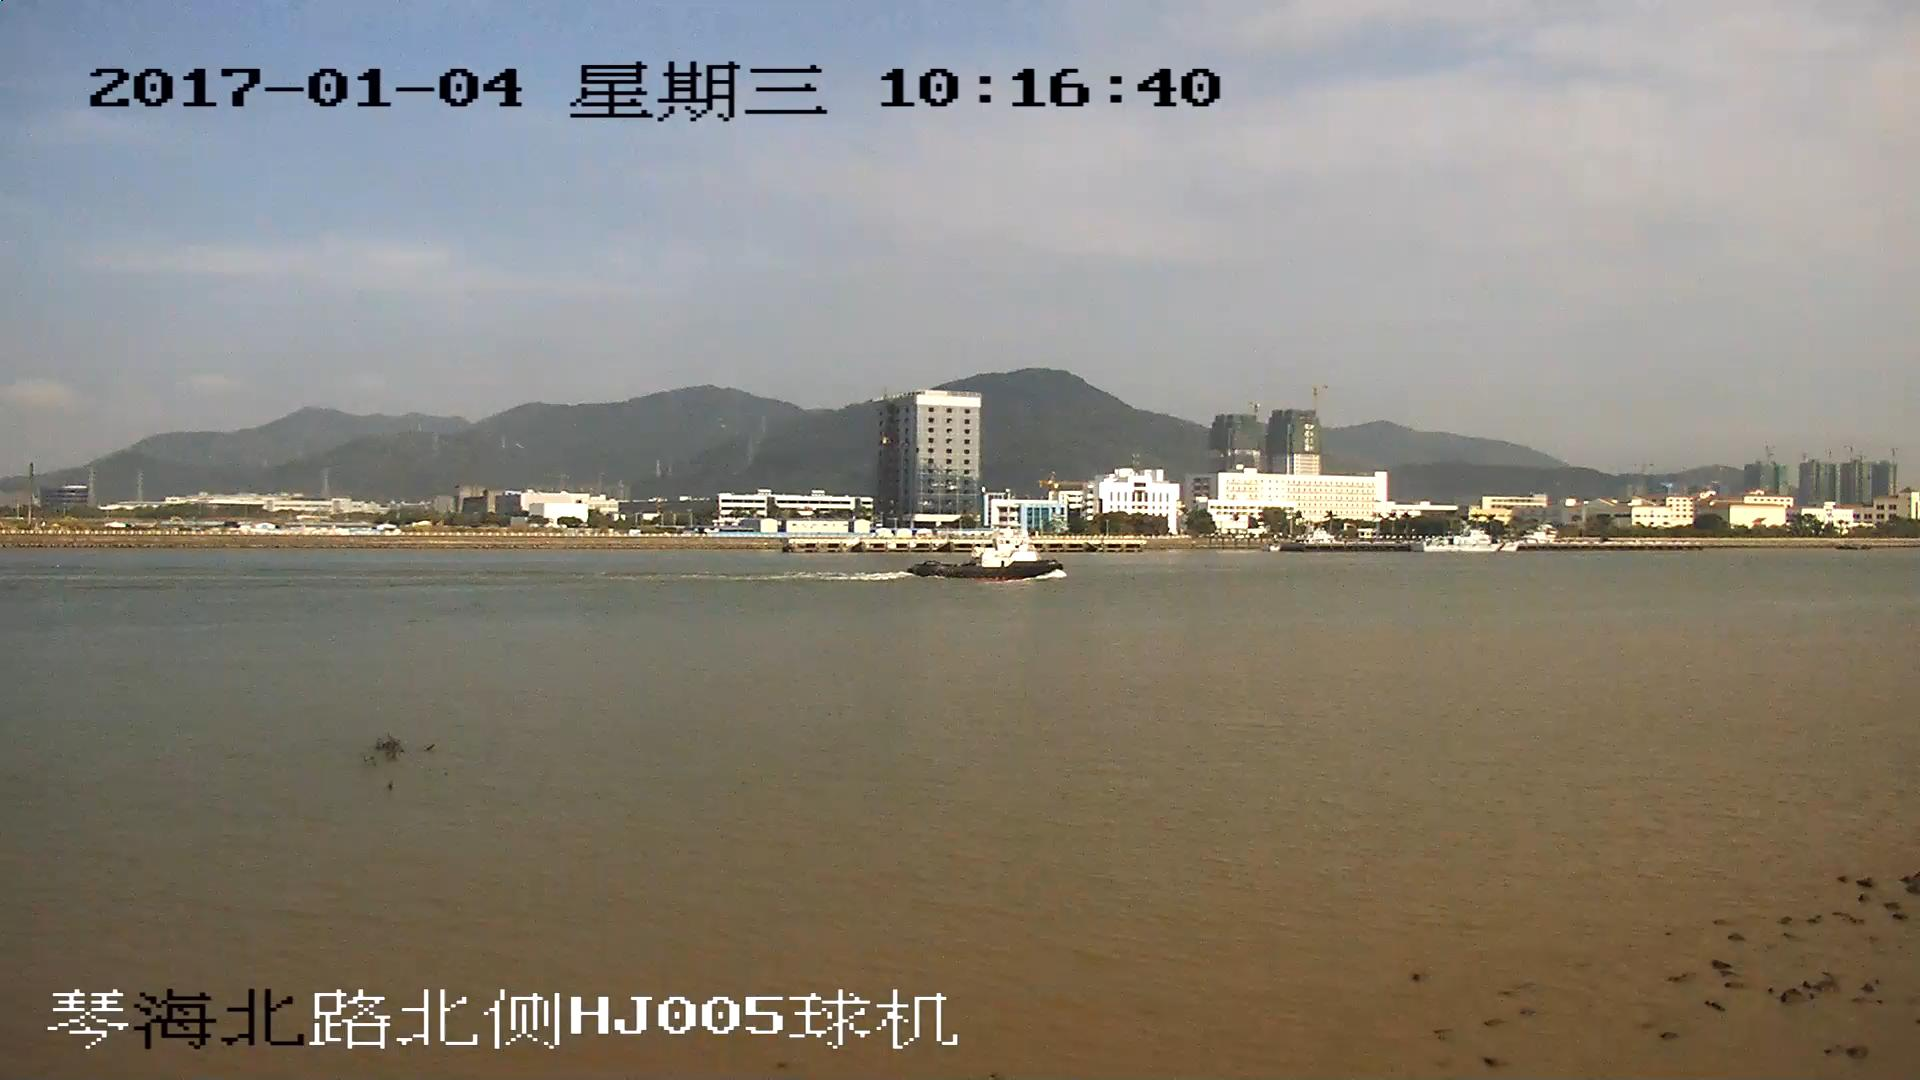fishing boat: (913, 533, 1063, 576)
